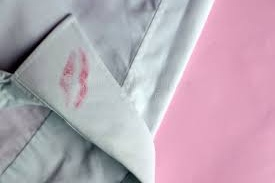lipstick: (63, 48, 93, 110)
